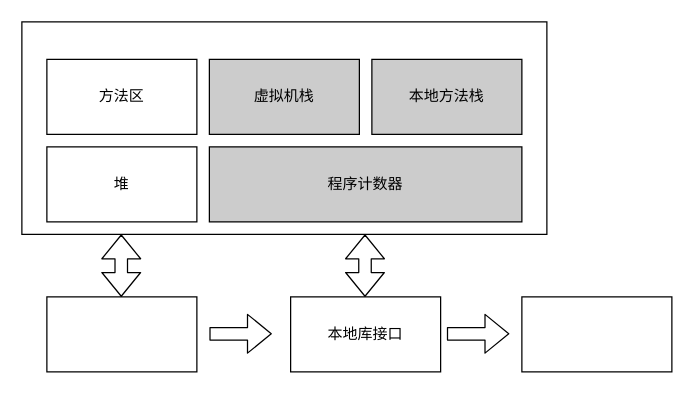
The diagram is 694 pixels wide and 394 high, and some of its shapes have lost their labels. The shapes that lost their labels are listed below. From the top down, each one's box as (x1, y1, x2, y2) in pixels, then its label:
(21, 21, 547, 234): 运行时数据区
(46, 296, 197, 372): 执行引擎
(521, 296, 672, 372): 本地方法库
